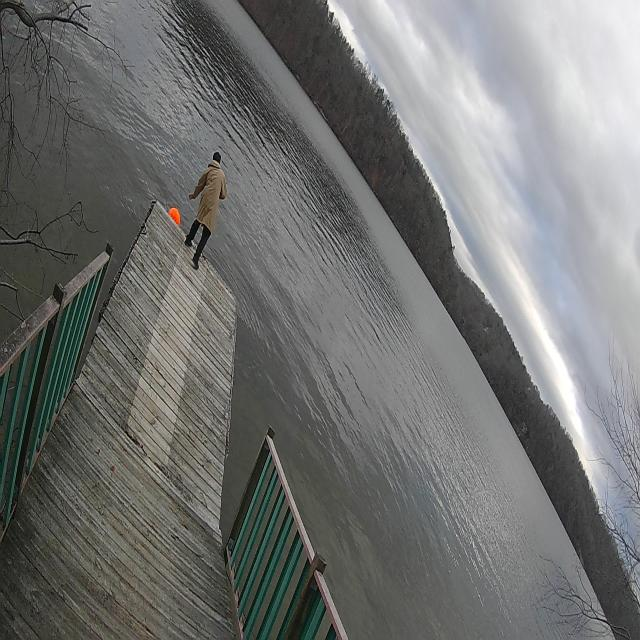Buoy: (166, 205, 184, 230)
